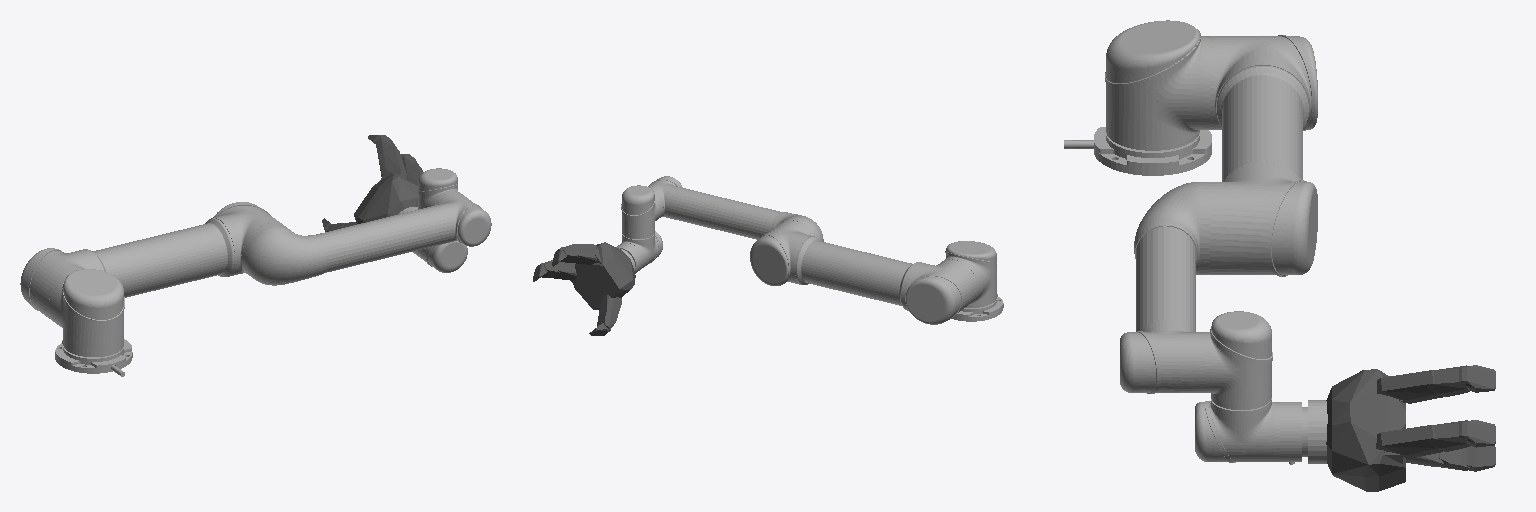
--- What the picture shows (computed from the rendered views, not written in the file) ---
Views: 3 orthographic renders of the robot side by side, from view 1: azimuth 30°, elevation 25°; view 2: azimuth 150°, elevation 25°; view 3: azimuth 270°, elevation 25°.
Robot: ur5 — 26 links, 25 joints (17 revolute, 8 fixed); root link world; default pose: every joint at zero.
Visible links, largest first — view 1: upper_arm_link, forearm_link, shoulder_link, palm, base_link, wrist_1_link, wrist_2_link, finger_2_link_1; view 2: upper_arm_link, forearm_link, palm, shoulder_link, wrist_1_link, wrist_2_link, base_link; view 3: upper_arm_link, forearm_link, shoulder_link, palm, wrist_1_link, wrist_2_link, base_link, wrist_3_link, finger_1_link_1, finger_2_link_1, adapter_link, finger_1_link_3 (+4 smaller).
Boxes of the visible links, bbox=[...] form: upper_arm_link: bbox=[20, 202, 285, 321]; forearm_link: bbox=[243, 192, 491, 285]; shoulder_link: bbox=[49, 269, 124, 356]; palm: bbox=[354, 173, 417, 223]; base_link: bbox=[55, 339, 132, 376]; wrist_1_link: bbox=[418, 168, 459, 209]; wrist_2_link: bbox=[413, 241, 467, 272]; finger_2_link_1: bbox=[378, 147, 406, 178]; upper_arm_link: bbox=[750, 220, 977, 324]; forearm_link: bbox=[648, 176, 823, 241]; palm: bbox=[574, 242, 635, 309]; shoulder_link: bbox=[942, 241, 996, 307]; wrist_1_link: bbox=[621, 185, 662, 238]; wrist_2_link: bbox=[621, 231, 662, 270]; base_link: bbox=[951, 294, 1003, 321]; upper_arm_link: bbox=[1210, 35, 1317, 276]; forearm_link: bbox=[1120, 182, 1209, 393]; shoulder_link: bbox=[1105, 20, 1209, 150]; palm: bbox=[1326, 369, 1405, 491]; wrist_1_link: bbox=[1205, 311, 1272, 409]; wrist_2_link: bbox=[1195, 398, 1279, 462]; base_link: bbox=[1064, 127, 1211, 175]; wrist_3_link: bbox=[1280, 402, 1307, 464]; finger_1_link_1: bbox=[1376, 425, 1442, 457]; finger_2_link_1: bbox=[1377, 370, 1442, 403]; adapter_link: bbox=[1308, 400, 1327, 463]; finger_1_link_3: bbox=[1459, 420, 1495, 447].
Size in the robot's own frame: 1 by 0.5339 by 0.2473 metres.
Meshes: 12 distinct files referenced, 20 mesh visuals loaded (5 binary STL, 7 Collada DAE).

URDF robot description (ur5):
<?xml version="1.0" ?>
<!-- =================================================================================== -->
<!-- |    This document was autogenerated by xacro from universal_robot/ur_description/urdf/ur5_robot_.urdf.xacro | -->
<!-- |    EDITING THIS FILE BY HAND IS NOT RECOMMENDED                                 | -->
<!-- =================================================================================== -->
<robot name="ur5" xmlns:xacro="http://ros.org/wiki/xacro">
  <!-- measured from model -->
  <!--property name="shoulder_height" value="0.089159" /-->
  <!--property name="shoulder_offset" value="0.13585" /-->
  <!-- shoulder_offset - elbow_offset + wrist_1_length = 0.10915 -->
  <!--property name="upper_arm_length" value="0.42500" /-->
  <!--property name="elbow_offset" value="0.1197" /-->
  <!-- CAD measured -->
  <!--property name="forearm_length" value="0.39225" /-->
  <!--property name="wrist_1_length" value="0.093" /-->
  <!-- CAD measured -->
  <!--property name="wrist_2_length" value="0.09465" /-->
  <!-- In CAD this distance is 0.930, but in the spec it is 0.09465 -->
  <!--property name="wrist_3_length" value="0.0823" /-->
  <!-- manually measured -->
  <link name="base_link">
    <visual>
      <geometry>
        <mesh filename="package://ur_description/meshes/ur5/visual/base.dae"/>
      </geometry>
      <material name="LightGrey">
        <color rgba="0.7 0.7 0.7 1.0"/>
      </material>
    </visual>
    <collision>
      <geometry>
        <mesh filename="package://ur_description/meshes/ur5/collision/base.stl"/>
      </geometry>
    </collision>
    <inertial>
      <mass value="4.0"/>
      <origin rpy="0 0 0" xyz="0.0 0.0 0.0"/>
      <inertia ixx="0.00443333156" ixy="0.0" ixz="0.0" iyy="0.00443333156" iyz="0.0" izz="0.0072"/>
    </inertial>
  </link>
  <joint name="shoulder_pan_joint" type="revolute">
    <parent link="base_link"/>
    <child link="shoulder_link"/>
    <origin rpy="0.0 0.0 0.0" xyz="0.0 0.0 0.089159"/>
    <axis xyz="0 0 1"/>
    <limit effort="150.0" lower="-6.28318530718" upper="0" velocity="3.15"/>
    <dynamics damping="0.0" friction="0.0"/>
  </joint>
  <link name="shoulder_link">
    <visual>
      <geometry>
        <mesh filename="package://ur_description/meshes/ur5/visual/shoulder.dae"/>
      </geometry>
      <material name="LightGrey">
        <color rgba="0.7 0.7 0.7 1.0"/>
      </material>
    </visual>
    <collision>
      <geometry>
        <mesh filename="package://ur_description/meshes/ur5/collision/shoulder.stl"/>
      </geometry>
    </collision>
    <inertial>
      <mass value="3.7"/>
      <origin rpy="0 0 0" xyz="0.0 0.0 0.0"/>
      <inertia ixx="0.010267495893" ixy="0.0" ixz="0.0" iyy="0.010267495893" iyz="0.0" izz="0.00666"/>
    </inertial>
  </link>
  <joint name="shoulder_lift_joint" type="revolute">
    <parent link="shoulder_link"/>
    <child link="upper_arm_link"/>
    <origin rpy="0.0 1.57079632679 0.0" xyz="0.0 0.13585 0.0"/>
    <axis xyz="0 1 0"/>
    <limit effort="150.0" lower="-3.14159265359" upper="3.14159265359" velocity="3.15"/>
    <dynamics damping="0.0" friction="0.0"/>
  </joint>
  <link name="upper_arm_link">
    <visual>
      <geometry>
        <mesh filename="package://ur_description/meshes/ur5/visual/upperarm.dae"/>
      </geometry>
      <material name="LightGrey">
        <color rgba="0.7 0.7 0.7 1.0"/>
      </material>
    </visual>
    <collision>
      <geometry>
        <mesh filename="package://ur_description/meshes/ur5/collision/upperarm.stl"/>
      </geometry>
    </collision>
    <inertial>
      <mass value="8.393"/>
      <origin rpy="0 0 0" xyz="0.0 0.0 0.28"/>
      <inertia ixx="0.22689067591" ixy="0.0" ixz="0.0" iyy="0.22689067591" iyz="0.0" izz="0.0151074"/>
    </inertial>
  </link>
  <joint name="elbow_joint" type="revolute">
    <parent link="upper_arm_link"/>
    <child link="forearm_link"/>
    <origin rpy="0.0 0.0 0.0" xyz="0.0 -0.1197 0.425"/>
    <axis xyz="0 1 0"/>
    <limit effort="150.0" lower="-3.14159265359" upper="3.14159265359" velocity="3.15"/>
    <dynamics damping="0.0" friction="0.0"/>
  </joint>
  <link name="forearm_link">
    <visual>
      <geometry>
        <mesh filename="package://ur_description/meshes/ur5/visual/forearm.dae"/>
      </geometry>
      <material name="LightGrey">
        <color rgba="0.7 0.7 0.7 1.0"/>
      </material>
    </visual>
    <collision>
      <geometry>
        <mesh filename="package://ur_description/meshes/ur5/collision/forearm.stl"/>
      </geometry>
    </collision>
    <inertial>
      <mass value="2.275"/>
      <origin rpy="0 0 0" xyz="0.0 0.0 0.25"/>
      <inertia ixx="0.049443313556" ixy="0.0" ixz="0.0" iyy="0.049443313556" iyz="0.0" izz="0.004095"/>
    </inertial>
  </link>
  <joint name="wrist_1_joint" type="revolute">
    <parent link="forearm_link"/>
    <child link="wrist_1_link"/>
    <origin rpy="0.0 1.57079632679 0.0" xyz="0.0 0.0 0.39225"/>
    <axis xyz="0 1 0"/>
    <limit effort="28.0" lower="-3.14159265359" upper="3.14159265359" velocity="3.2"/>
    <dynamics damping="0.0" friction="0.0"/>
  </joint>
  <link name="wrist_1_link">
    <visual>
      <geometry>
        <mesh filename="package://ur_description/meshes/ur5/visual/wrist1.dae"/>
      </geometry>
      <material name="LightGrey">
        <color rgba="0.7 0.7 0.7 1.0"/>
      </material>
    </visual>
    <collision>
      <geometry>
        <mesh filename="package://ur_description/meshes/ur5/collision/wrist1.stl"/>
      </geometry>
    </collision>
    <inertial>
      <mass value="1.219"/>
      <origin rpy="0 0 0" xyz="0.0 0.0 0.0"/>
      <inertia ixx="0.111172755531" ixy="0.0" ixz="0.0" iyy="0.111172755531" iyz="0.0" izz="0.21942"/>
    </inertial>
  </link>
  <joint name="wrist_2_joint" type="revolute">
    <parent link="wrist_1_link"/>
    <child link="wrist_2_link"/>
    <origin rpy="0.0 0.0 0.0" xyz="0.0 0.093 0.0"/>
    <axis xyz="0 0 1"/>
    <limit effort="28.0" lower="-3.14159265359" upper="3.14159265359" velocity="3.2"/>
    <dynamics damping="0.0" friction="0.0"/>
  </joint>
  <link name="wrist_2_link">
    <visual>
      <geometry>
        <mesh filename="package://ur_description/meshes/ur5/visual/wrist2.dae"/>
      </geometry>
      <material name="LightGrey">
        <color rgba="0.7 0.7 0.7 1.0"/>
      </material>
    </visual>
    <collision>
      <geometry>
        <mesh filename="package://ur_description/meshes/ur5/collision/wrist2.stl"/>
      </geometry>
    </collision>
    <inertial>
      <mass value="1.219"/>
      <origin rpy="0 0 0" xyz="0.0 0.0 0.0"/>
      <inertia ixx="0.111172755531" ixy="0.0" ixz="0.0" iyy="0.111172755531" iyz="0.0" izz="0.21942"/>
    </inertial>
  </link>
  <joint name="wrist_3_joint" type="revolute">
    <parent link="wrist_2_link"/>
    <child link="wrist_3_link"/>
    <origin rpy="0.0 0.0 0.0" xyz="0.0 0.0 0.09465"/>
    <axis xyz="0 1 0"/>
    <limit effort="28.0" lower="-3.14159265359" upper="3.14159265359" velocity="3.2"/>
    <dynamics damping="0.0" friction="0.0"/>
  </joint>
  <link name="wrist_3_link">
    <visual>
      <geometry>
        <mesh filename="package://ur_description/meshes/ur5/visual/wrist3.dae"/>
      </geometry>
      <material name="LightGrey">
        <color rgba="0.7 0.7 0.7 1.0"/>
      </material>
    </visual>
    <collision>
      <geometry>
        <mesh filename="package://ur_description/meshes/ur5/collision/wrist3.stl"/>
      </geometry>
    </collision>
    <inertial>
      <mass value="0.1879"/>
      <origin rpy="0 0 0" xyz="0.0 0.0 0.0"/>
      <inertia ixx="0.0171364731454" ixy="0.0" ixz="0.0" iyy="0.0171364731454" iyz="0.0" izz="0.033822"/>
    </inertial>
  </link>
  <joint name="ee_fixed_joint" type="fixed">
    <parent link="wrist_3_link"/>
    <child link="ee_link"/>
    <origin rpy="0.0 0.0 1.57079632679" xyz="0.0 0.0823 0.0"/>
  </joint>
  <link name="ee_link">
    <collision>
      <geometry>
        <box size="0.01 0.01 0.01"/>
      </geometry>
      <origin rpy="0 0 0" xyz="-0.01 0 0"/>
    </collision>
    <inertial>
      <mass value="0"/>
      <origin rpy="0 0 0" xyz="0 0 0"/>
      <inertia ixx="0" ixy="0" ixz="0" iyy="0" iyz="0" izz="0"/>
    </inertial>
  </link>
  <!-- nothing to do here at the moment -->
  <!-- ROS base_link to UR 'Base' Coordinates transform -->
  <link name="base">
    <inertial>
      <mass value="0"/>
      <origin rpy="0 0 0" xyz="0 0 0"/>
      <inertia ixx="0" ixy="0" ixz="0" iyy="0" iyz="0" izz="0"/>
    </inertial>
  </link>
  <joint name="base_link-base_fixed_joint" type="fixed">
    <!-- NOTE: this rotation is only needed as long as base_link itself is
                 not corrected wrt the real robot (ie: rotated over 180
                 degrees)
      -->
    <origin rpy="0 0 -3.14159265359" xyz="0 0 0"/>
    <parent link="base_link"/>
    <child link="base"/>
  </joint>
  <!-- Frame coincident with all-zeros TCP on UR controller -->
  <link name="tool0">
    <inertial>
      <mass value="0"/>
      <origin rpy="0 0 0" xyz="0 0 0"/>
      <inertia ixx="0" ixy="0" ixz="0" iyy="0" iyz="0" izz="0"/>
    </inertial>
  </link>
  <joint name="wrist_3_link-tool0_fixed_joint" type="fixed">
    <origin rpy="-1.57079632679 0 0" xyz="0 0.0823 0"/>
    <parent link="wrist_3_link"/>
    <child link="tool0"/>
  </joint>
  <link name="world"/>
  <joint name="world_joint" type="fixed">
    <parent link="world"/>
    <child link="base_link"/>
    <origin rpy="0.0 0.0 0.0" xyz="0.0 0.0 0.0"/>
  </joint>

  <!-- HAND PART -->
  <link name="finger_1_link_0">
    <visual>
      <origin rpy="0 0 0" xyz="0.020 0 0"/>
      <geometry>
        <mesh filename="package://ur_description/meshes/s-model_articulated/visual/link_0.STL"/>
      </geometry>
      <material name="dark_gray">
        <color rgba="0.4 0.4 0.4 1"/>
      </material>
    </visual>
    <collision>
      <origin rpy="0 0 0" xyz="0.020 0 0"/>
      <geometry>
        <mesh filename="package://ur_description/meshes/s-model_articulated/collision/link_0.STL"/>
      </geometry>
      <material name="yellow">
        <color rgba="0 1 1 1"/>
      </material>
    </collision>
    <inertial>
      <origin rpy="0 0 0" xyz="0 0 0"/>
      <mass value="0.05"/>
      <inertia ixx="0.01" ixy="0" ixz="0" iyy="0.01" iyz="0" izz="0.01"/>
    </inertial>
  </link>
  <link name="finger_1_link_1">
    <visual>
      <origin rpy="0 0 -0.52" xyz="0.050 -.028 0"/>
      <geometry>
        <mesh filename="package://ur_description/meshes/s-model_articulated/visual/link_1.STL"/>
      </geometry>
      <material name="dark_gray"/>
    </visual>
    <collision>
      <origin rpy="0 0 -0.52" xyz="0.050 -.028 0"/>
      <geometry>
        <mesh filename="package://ur_description/meshes/s-model_articulated/collision/link_1.STL"/>
      </geometry>
      <material name="yellow"/>
    </collision>
    <inertial>
      <origin rpy="0 0 0" xyz="0 0 0"/>
      <mass value="0.15"/>
      <inertia ixx="0.01" ixy="0" ixz="0" iyy="0.012756" iyz="0" izz="0.01"/>
    </inertial>
  </link>
  <link name="finger_1_link_2">
    <!--
			NOTE: This link has an offset in the z-direction based on the models that were
			used to generate grap-it poses.  With the offset below the model appears visually
			correct, but it is suspect.
			-->
    <visual>
      <origin rpy="0 0 0" xyz="0.039 0 0.0075"/>
      <geometry>
        <mesh filename="package://ur_description/meshes/s-model_articulated/visual/link_2.STL"/>
      </geometry>
      <material name="dark_gray"/>
    </visual>
    <collision>
      <origin rpy="0 0 0" xyz="0.039 0 0.0075"/>
      <geometry>
        <mesh filename="package://ur_description/meshes/s-model_articulated/collision/link_2.STL"/>
      </geometry>
      <material name="yellow"/>
    </collision>
    <inertial>
      <origin rpy="0 0 0" xyz="0 0 0"/>
      <mass value="0.15"/>
      <inertia ixx="0.01" ixy="0" ixz="0" iyy="0.012756" iyz="0" izz="0.01"/>
    </inertial>
  </link>
  <link name="finger_1_link_3">
    <visual>
      <origin rpy="0 0 0.52" xyz="0 0 0"/>
      <geometry>
        <mesh filename="package://ur_description/meshes/s-model_articulated/visual/link_3.STL"/>
      </geometry>
      <material name="dark_gray"/>
    </visual>
    <collision>
      <origin rpy="0 0 0.52" xyz="0 0 0"/>
      <geometry>
        <mesh filename="package://ur_description/meshes/s-model_articulated/collision/link_3.STL"/>
      </geometry>
      <material name="yellow"/>
    </collision>
    <inertial>
      <origin rpy="0 0 0" xyz="0 0 0"/>
      <mass value="0.05"/>
      <inertia ixx="0.01" ixy="0" ixz="0" iyy="0.01" iyz="0" izz="0.01"/>
    </inertial>
    <contact>
        <lateral_friction value="1.0"/>
        <spinning_friction value="1.5"/>
        <!--inertia_scaling value="3.0"/-->
    </contact>
  </link>
  <joint name="finger_1_joint_1" type="revolute">
    <parent link="finger_1_link_0"/>
    <child link="finger_1_link_1"/>
    <axis xyz="0 0 1"/>
    <origin rpy="0 0 0" xyz="0.020 0 0"/>
    <limit effort="100" lower="0" upper="1.22173" velocity="100"/>
  </joint>
  <joint name="finger_1_joint_2" type="revolute">
    <parent link="finger_1_link_1"/>
    <child link="finger_1_link_2"/>
    <axis xyz="0 0 1"/>
    <origin rpy="0 0 -0.52" xyz="0.050 -.028 0"/>
    <limit effort="100" lower="0" upper="1.5708" velocity="100"/>
  </joint>
  <joint name="finger_1_joint_3" type="revolute">
    <parent link="finger_1_link_2"/>
    <child link="finger_1_link_3"/>
    <axis xyz="0 0 1"/>
    <origin rpy="0 0 0" xyz="0.039 0 0"/>
    <limit effort="100" lower="-0.9599" upper="0.7505" velocity="100"/>
  </joint>
  <link name="finger_2_link_0">
    <visual>
      <origin rpy="0 0 0" xyz="0.020 0 0"/>
      <geometry>
        <mesh filename="package://ur_description/meshes/s-model_articulated/visual/link_0.STL"/>
      </geometry>
      <material name="dark_gray"/>
    </visual>
    <collision>
      <origin rpy="0 3.1416 -1.57" xyz="-0.0455 0.0414 0.036"/>
      <geometry>
        <mesh filename="package://ur_description/meshes/s-model_articulated/collision/link_0.STL"/>
      </geometry>
      <material name="yellow"/>
    </collision>
    <inertial>
      <origin rpy="0 0 0" xyz="0 0 0"/>
      <mass value="0.05"/>
      <inertia ixx="0.01" ixy="0" ixz="0" iyy="0.01" iyz="0" izz="0.01"/>
    </inertial>
  </link>
  <link name="finger_2_link_1">
    <visual>
      <origin rpy="0 0 -0.52" xyz="0.050 -.028 0"/>
      <geometry>
        <mesh filename="package://ur_description/meshes/s-model_articulated/visual/link_1.STL"/>
      </geometry>
      <material name="dark_gray"/>
    </visual>
    <collision>
      <origin rpy="0 0 -0.52" xyz="0.050 -.028 0"/>
      <geometry>
        <mesh filename="package://ur_description/meshes/s-model_articulated/collision/link_1.STL"/>
      </geometry>
      <material name="yellow"/>
    </collision>
    <inertial>
      <origin rpy="0 0 0" xyz="0 0 0"/>
      <mass value="0.15"/>
      <inertia ixx="0.01" ixy="0" ixz="0" iyy="0.012756" iyz="0" izz="0.01"/>
    </inertial>
  </link>
  <link name="finger_2_link_2">
    <!--
			NOTE: This link has an offset in the z-direction based on the models that were
			used to generate grap-it poses.  With the offset below the model appears visually
			correct, but it is suspect.
			-->
    <visual>
      <origin rpy="0 0 0" xyz="0.039 0 0.0075"/>
      <geometry>
        <mesh filename="package://ur_description/meshes/s-model_articulated/visual/link_2.STL"/>
      </geometry>
      <material name="dark_gray"/>
    </visual>
    <collision>
      <origin rpy="0 0 0" xyz="0.039 0 0.0075"/>
      <geometry>
        <mesh filename="package://ur_description/meshes/s-model_articulated/collision/link_2.STL"/>
      </geometry>
      <material name="yellow"/>
    </collision>
    <inertial>
      <origin rpy="0 0 0" xyz="0 0 0"/>
      <mass value="0.15"/>
     <inertia ixx="0.01" ixy="0" ixz="0" iyy="0.012756" iyz="0" izz="0.01"/>
    </inertial>
  </link>
  <link name="finger_2_link_3">
    <visual>
      <origin rpy="0 0 0.52" xyz="0 0 0"/>
      <geometry>
        <mesh filename="package://ur_description/meshes/s-model_articulated/visual/link_3.STL"/>
      </geometry>
      <material name="dark_gray"/>
    </visual>
    <collision>
      <origin rpy="0 0 0.52" xyz="0 0 0"/>
      <geometry>
        <mesh filename="package://ur_description/meshes/s-model_articulated/collision/link_3.STL"/>
      </geometry>
      <material name="yellow"/>
    </collision>
    <inertial>
      <origin rpy="0 0 0" xyz="0 0 0"/>
      <mass value="0.05"/>
      <inertia ixx="0.01" ixy="0" ixz="0" iyy="0.01" iyz="0" izz="0.01"/>
    </inertial>
    <contact>
        <lateral_friction value="1.0"/>
        <spinning_friction value="1.5"/>
        <!--inertia_scaling value="3.0"/-->
    </contact>
  </link>
  <joint name="finger_2_joint_1" type="revolute">
    <parent link="finger_2_link_0"/>
    <child link="finger_2_link_1"/>
    <axis xyz="0 0 1"/>
    <origin rpy="0 0 0" xyz="0.020 0 0"/>
    <limit effort="100" lower="0" upper="1.22173" velocity="100"/>
  </joint>
  <joint name="finger_2_joint_2" type="revolute">
    <parent link="finger_2_link_1"/>
    <child link="finger_2_link_2"/>
    <axis xyz="0 0 1"/>
    <origin rpy="0 0 -0.52" xyz="0.050 -.028 0"/>
    <limit effort="100" lower="0" upper="1.5708" velocity="100"/>
  </joint>
  <joint name="finger_2_joint_3" type="revolute">
    <parent link="finger_2_link_2"/>
    <child link="finger_2_link_3"/>
    <axis xyz="0 0 1"/>
    <origin rpy="0 0 0" xyz="0.039 0 0"/>
    <limit effort="100" lower="-0.9599" upper="0.7505" velocity="100"/>
  </joint>
  <link name="finger_middle_link_0">
    <visual>
      <origin rpy="0 0 0" xyz="0.020 0 0"/>
      <geometry>
        <mesh filename="package://ur_description/meshes/s-model_articulated/visual/link_0.STL"/>
      </geometry>
      <material name="dark_gray"/>
    </visual>
    <collision>
      <origin rpy="0 0 0" xyz="0.020 0 0"/>
      <geometry>
        <mesh filename="package://ur_description/meshes/s-model_articulated/collision/link_0.STL"/>
      </geometry>
      <material name="yellow"/>
    </collision>
    <inertial>
      <origin rpy="0 0 0" xyz="0 0 0"/>
      <mass value="0.05"/>
      <inertia ixx="0.01" ixy="0" ixz="0" iyy="0.01" iyz="0" izz="0.01"/>
    </inertial>
  </link>
  <link name="finger_middle_link_1">
    <visual>
      <origin rpy="0 0 -0.52" xyz="0.050 -.028 0"/>
      <geometry>
        <mesh filename="package://ur_description/meshes/s-model_articulated/visual/link_1.STL"/>
      </geometry>
      <material name="dark_gray"/>
    </visual>
    <collision>
      <origin rpy="0 0 -0.52" xyz="0.050 -.028 0"/>
      <geometry>
        <mesh filename="package://ur_description/meshes/s-model_articulated/collision/link_1.STL"/>
      </geometry>
      <material name="yellow"/>
    </collision>
    <inertial>
      <origin rpy="0 0 0" xyz="0 0 0"/>
      <mass value="0.15"/>
      <inertia ixx="0.01" ixy="0" ixz="0" iyy="0.012756" iyz="0" izz="0.01"/>
    </inertial>
  </link>
  <link name="finger_middle_link_2">
    <!--
			NOTE: This link has an offset in the z-direction based on the models that were
			used to generate grap-it poses.  With the offset below the model appears visually
			correct, but it is suspect.
			-->
    <visual>
      <origin rpy="0 0 0" xyz="0.039 0 0.0075"/>
      <geometry>
        <mesh filename="package://ur_description/meshes/s-model_articulated/visual/link_2.STL"/>
      </geometry>
      <material name="dark_gray"/>
    </visual>
    <collision>
      <origin rpy="0 0 0" xyz="0.039 0 0.0075"/>
      <geometry>
        <mesh filename="package://ur_description/meshes/s-model_articulated/collision/link_2.STL"/>
      </geometry>
      <material name="yellow"/>
    </collision>
    <inertial>
      <origin rpy="0 0 0" xyz="0 0 0"/>
      <mass value="0.15"/>
      <inertia ixx="0.01" ixy="0" ixz="0" iyy="0.012756" iyz="0" izz="0.01"/>
    </inertial>
  </link>
  <link name="finger_middle_link_3">
    <visual>
      <origin rpy="0 0 0.52" xyz="0 0 0"/>
      <geometry>
        <mesh filename="package://ur_description/meshes/s-model_articulated/visual/link_3.STL"/>
      </geometry>
      <material name="dark_gray"/>
    </visual>
    <collision>
      <origin rpy="0 0 0.52" xyz="0 0 0"/>
      <geometry>
        <mesh filename="package://ur_description/meshes/s-model_articulated/collision/link_3.STL"/>
      </geometry>
      <material name="yellow"/>
    </collision>
    <inertial>
      <origin rpy="0 0 0" xyz="0 0 0"/>
      <mass value="0.05"/>
      <inertia ixx="0.01" ixy="0" ixz="0" iyy="0.01" iyz="0" izz="0.01"/>
    </inertial>
    <contact>
        <lateral_friction value="1.0"/>
        <spinning_friction value="1.5"/>
        <!-- inertia_scaling value="3.0"/-->
    </contact>
  </link>
  <joint name="finger_middle_joint_1" type="revolute">
    <parent link="finger_middle_link_0"/>
    <child link="finger_middle_link_1"/>
    <axis xyz="0 0 1"/>
    <origin rpy="0 0 0" xyz="0.020 0 0"/>
    <limit effort="100" lower="0" upper="1.22173" velocity="100"/>
    <!--dynamics damping="1" friction="0" /-->
  </joint>
  <joint name="finger_middle_joint_2" type="revolute">
    <parent link="finger_middle_link_1"/>
    <child link="finger_middle_link_2"/>
    <axis xyz="0 0 1"/>
    <origin rpy="0 0 -0.52" xyz="0.050 -.028 0"/>
    <limit effort="100" lower="0" upper="1.5708" velocity="100"/>
    <!--dynamics damping="1" friction="0" /-->
  </joint>
  <joint name="finger_middle_joint_3" type="revolute">
    <parent link="finger_middle_link_2"/>
    <child link="finger_middle_link_3"/>
    <axis xyz="0 0 1"/>
    <origin rpy="0 0 0" xyz="0.039 0 0"/>
    <limit effort="100" lower="-0.9599" upper="0.7505" velocity="100"/>
    <!--dynamics damping="1" friction="0" /-->
  </joint>
  <link name="palm">
    <visual>
      <geometry>
        <mesh filename="package://ur_description/meshes/s-model_articulated/visual/palm.STL"/>
      </geometry>
      <material name="dark_gray"/>
    </visual>
    <collision>
      <geometry>
        <mesh filename="package://ur_description/meshes/s-model_articulated/collision/palm.STL"/>
      </geometry>
      <material name="yellow"/>
    </collision>
    <inertial>
      <origin rpy="0 0 0" xyz="0 0 0"/>
      <mass value="1.3"/>
      <inertia ixx="0.0035" ixy="0" ixz="0" iyy="0.0035" iyz="0" izz="0.0035"/>
    </inertial>
  </link>
  <inertial>
    <origin rpy="0 0 0" xyz="0 0 0"/>
    <mass value="1.3"/>
    <inertia ixx="0.006012" ixy="0.000079" ixz="-0.00024" iyy="0.012892" iyz="0" izz="0.002435"/>
  </inertial>
  <joint name="palm_finger_1_joint" type="revolute">
    <parent link="palm"/>
    <child link="finger_1_link_0"/>
    <axis xyz="0 1 0"/>
    <origin rpy="0 3.1416 -1.57" xyz="-0.0455 0.0214 0.036"/>  0.0455 0.0214 0
    <limit effort="100" lower="-0.16" upper="0.25" velocity="100"/>
  </joint>
  <joint name="palm_finger_2_joint" type="revolute">
    <parent link="palm"/>
    <child link="finger_2_link_0"/>
    <axis xyz="0 1 0"/>
    <origin rpy="0 3.1416 -1.57" xyz="-0.0455 0.0214 -0.036"/>
    <limit effort="100" lower="-0.25" upper="0.16" velocity="100"/>
  </joint>
  <joint name="palm_finger_middle_joint" type="fixed">
    <parent link="palm"/>
    <child link="finger_middle_link_0"/>
    <axis xyz="0 0 1"/>
    <origin rpy="0 0 1.57" xyz="0.0455 0.0214 0"/>
  </joint>

  <joint name="tool0-adapter_fixed_joint" type="fixed">
    <origin rpy="0 0 0" xyz="0 0 0"/>
    <parent link="tool0"/>
    <child link="adapter_link"/>
  </joint>
  <link name="adapter_link">
    <visual>
      <origin rpy="0 0 0" xyz="0.0 0.0 0.0125"/>
      <geometry>
        <cylinder length="0.025" radius="0.04"/>
      </geometry>
      <material name="LightGrey"/>
    </visual>
    <collision>
      <origin rpy="0 0 0" xyz="0.0 0.0 0.0125"/>
      <geometry>
        <cylinder length="0.025" radius="0.04"/>
      </geometry>
    </collision>
    <inertial>
      <mass value="0.1"/>
      <origin rpy="0 0 0" xyz="0.0 0.0 0.0125"/>
      <inertia ixx="4.520831525e-05" ixy="0.0" ixz="0.0" iyy="4.520831525e-05" iyz="0.0" izz="8e-05"/>
    </inertial>
  </link>
  <joint name="adapter-palm_fixed_joint" type="fixed">
    <origin rpy="1.57079632679 0 -0.785398163397" xyz="0 0 0.07"/>
    <parent link="adapter_link"/>
    <child link="palm"/>
  </joint>


  <!-- tool -->
  <link name="tool">
    <inertial>
      <mass value="0"/>
      <origin rpy="0 0 0" xyz="0 0 0"/>
      <inertia ixx="0" ixy="0" ixz="0" iyy="0" iyz="0" izz="0"/>
    </inertial>
  </link>

  <joint name="tool_joint" type="fixed">
    <origin rpy="0 0 -0.785398163397" xyz="0 0 0.225"/>
    <parent link="tool0"/>
    <child link="tool"/>
  </joint>

</robot>
